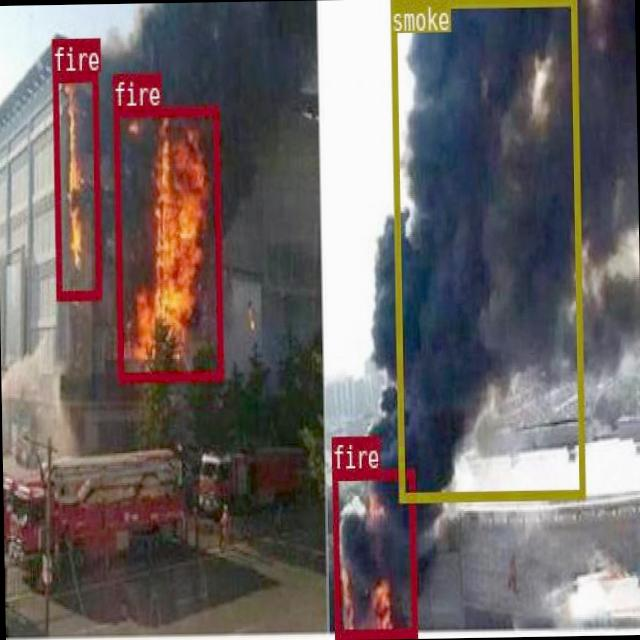fire: (112, 103, 222, 380), (330, 467, 415, 636), (52, 70, 100, 298)
smoke: (389, 0, 584, 498)
